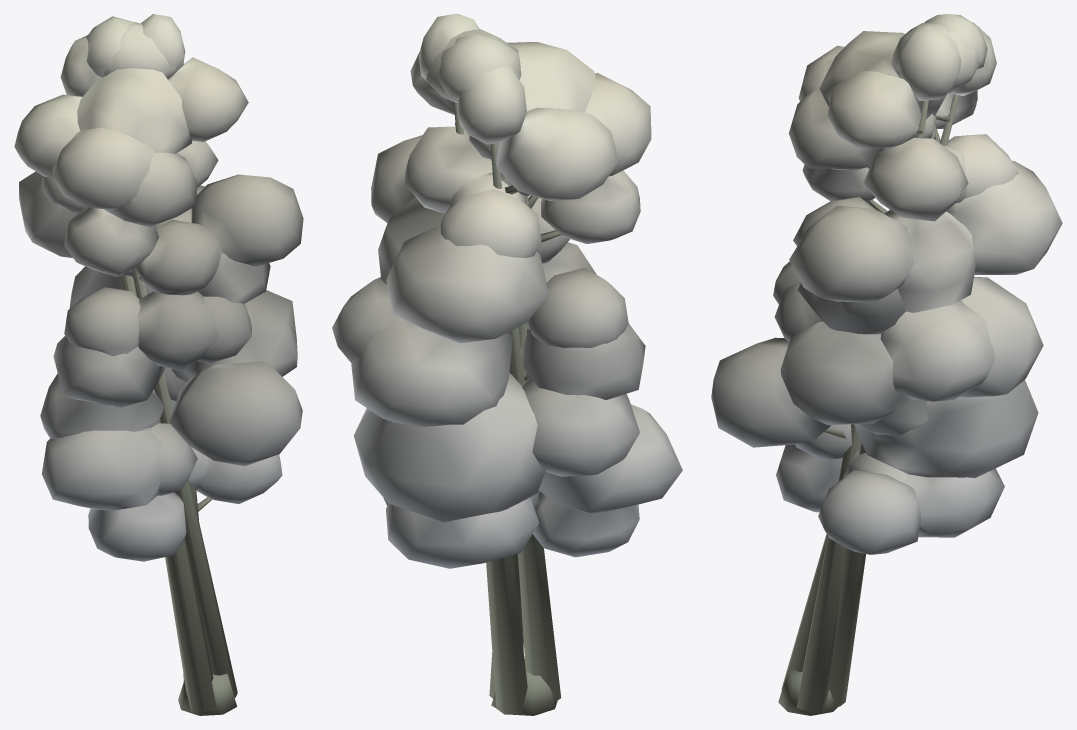
The picture shows the model from 3 angles, left to right: view 1: azimuth 30°, elevation 25°; view 2: azimuth 150°, elevation 25°; view 3: azimuth 270°, elevation 25°; orthographic projection. The views are drawn at different scales.
Parts seen in each view (by area): view 1: crown, trunk; view 2: crown, trunk; view 3: crown, trunk.
Part boxes in pixels (x1,y1,x2,y2): crown: (14, 14, 303, 561); trunk: (120, 268, 237, 715); crown: (332, 14, 682, 568); trunk: (454, 102, 561, 715); crown: (711, 14, 1062, 554); trunk: (778, 94, 959, 715).
Bounding box in the file's own units: 5.01 × 12.23 × 5.72.
